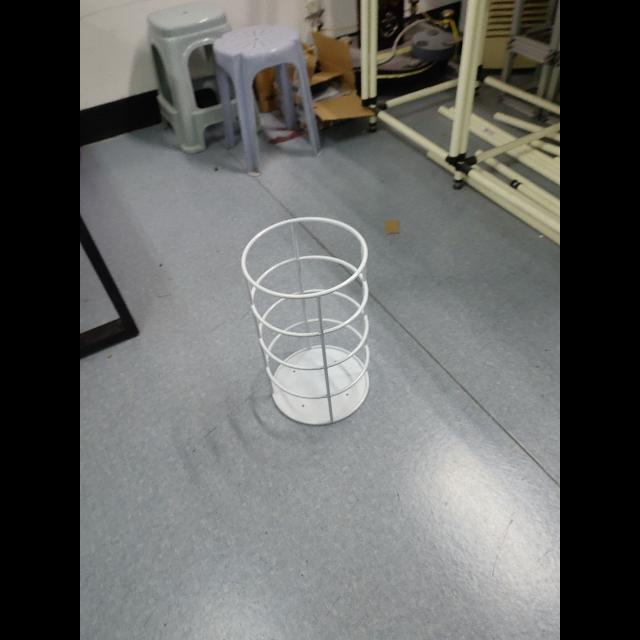S: (235, 213, 372, 429)
